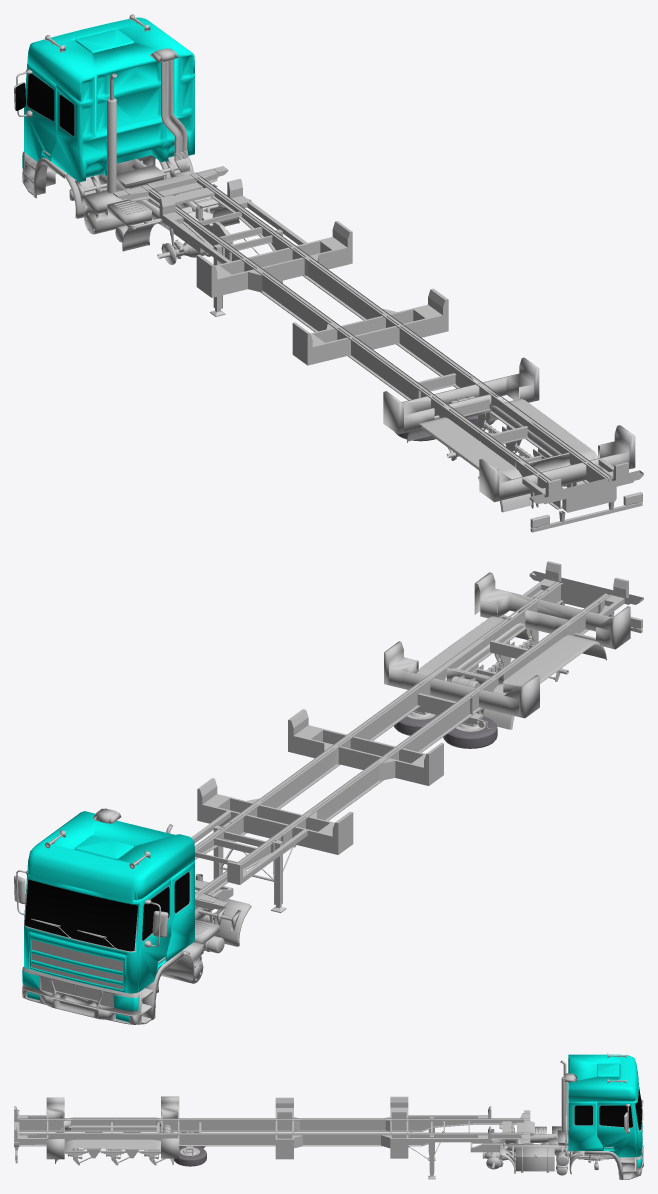
Rendered from Truck_Set.fbx.
3 renders of one model, top to bottom at view 1: azimuth 30°, elevation 25°; view 2: azimuth 150°, elevation 25°; view 3: azimuth 270°, elevation 25°, orthographic. The views are drawn at different scales.
Visible parts, largest first — view 1: Cube.002, Cube.005; view 2: Cube.002, Cube.005; view 3: Cube.002, Cube.005.
Boxes of the visible parts, x1=… form: Cube.002: x1=113, y1=166, x2=643, y2=532; Cube.005: x1=14, y1=14, x2=251, y2=264; Cube.002: x1=191, y1=561, x2=643, y2=912; Cube.005: x1=14, y1=808, x2=251, y2=1024; Cube.002: x1=14, y1=1096, x2=534, y2=1179; Cube.005: x1=470, y1=1053, x2=643, y2=1179.
Size of the model in its own units: 286 by 295 by 1650.
